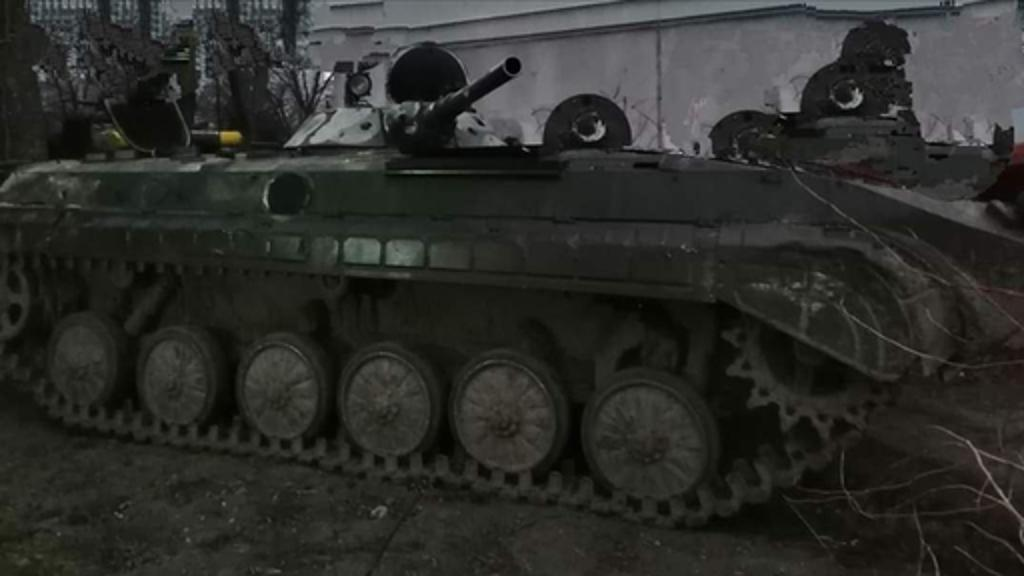APC-IFV: (0, 52, 990, 520)
